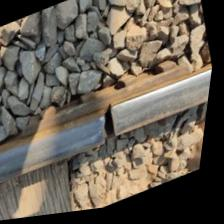person: (79, 94, 145, 159)
